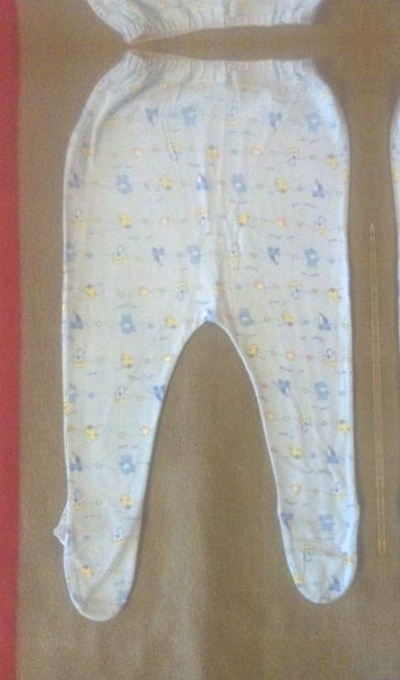Pants: (37, 57, 377, 622), (375, 47, 400, 611), (19, 0, 359, 31), (357, 0, 400, 21)
